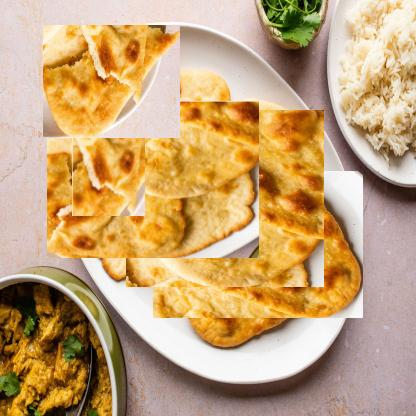naan: (131, 104, 319, 292), (61, 88, 246, 272), (168, 155, 348, 333), (42, 24, 180, 138), (72, 57, 145, 216)
